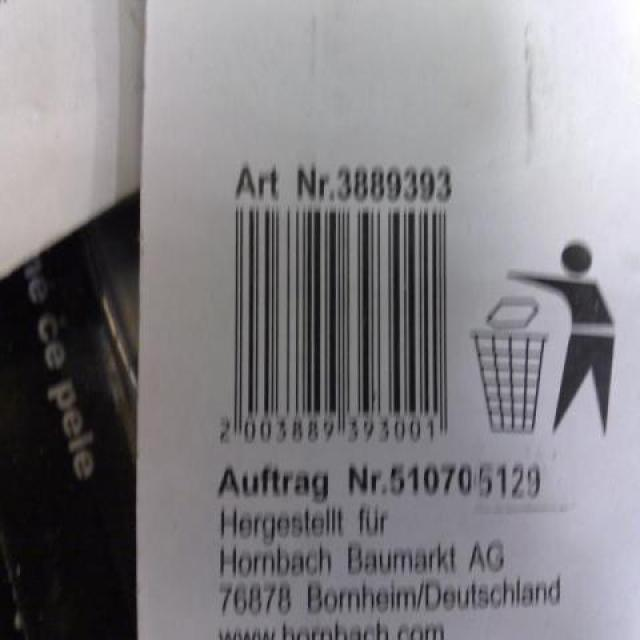Barcode: (206, 145, 470, 459)
